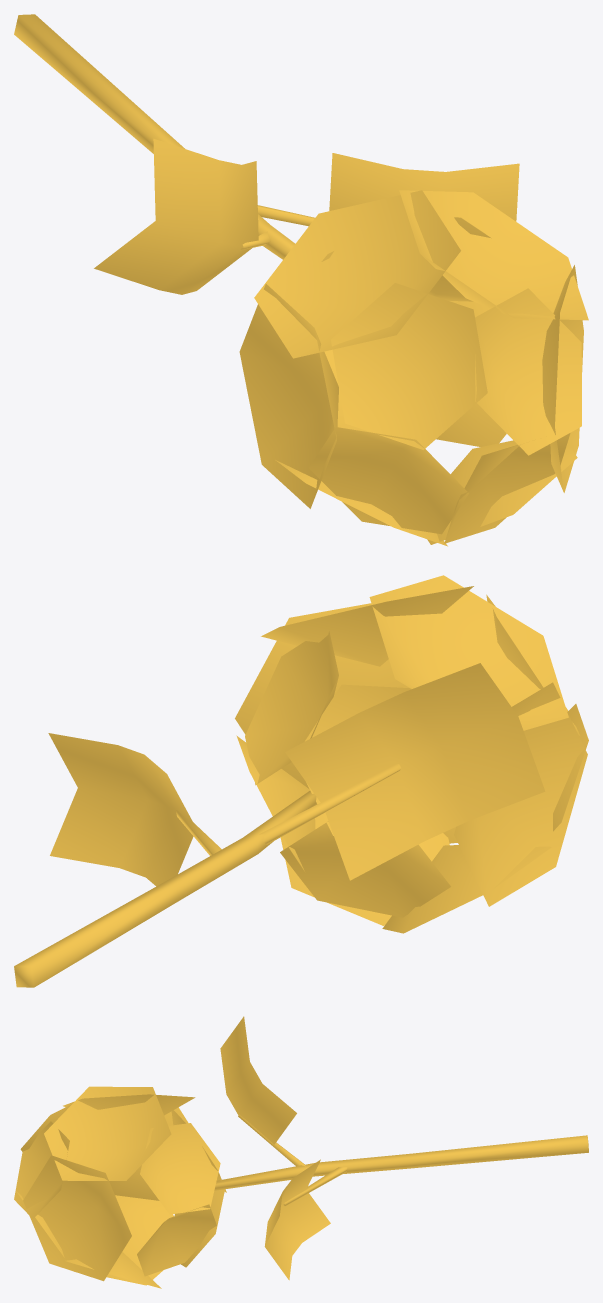
The model's file is quaternius-flower.glb.
The picture shows the model from 3 angles, top to bottom: view 1: azimuth 30°, elevation 25°; view 2: azimuth 150°, elevation 25°; view 3: azimuth 270°, elevation 25°; orthographic projection. The views are drawn at different scales.
Parts seen in each view (by area): view 1: Flower_1; view 2: Flower_1; view 3: Flower_1.
Part boxes in pixels (x1,y1,x2,y2): Flower_1: (14,14,588,546); Flower_1: (14,575,588,987); Flower_1: (14,1016,588,1288).
Bounding box in the file's own units: 26.77 × 20.44 × 48.94.
